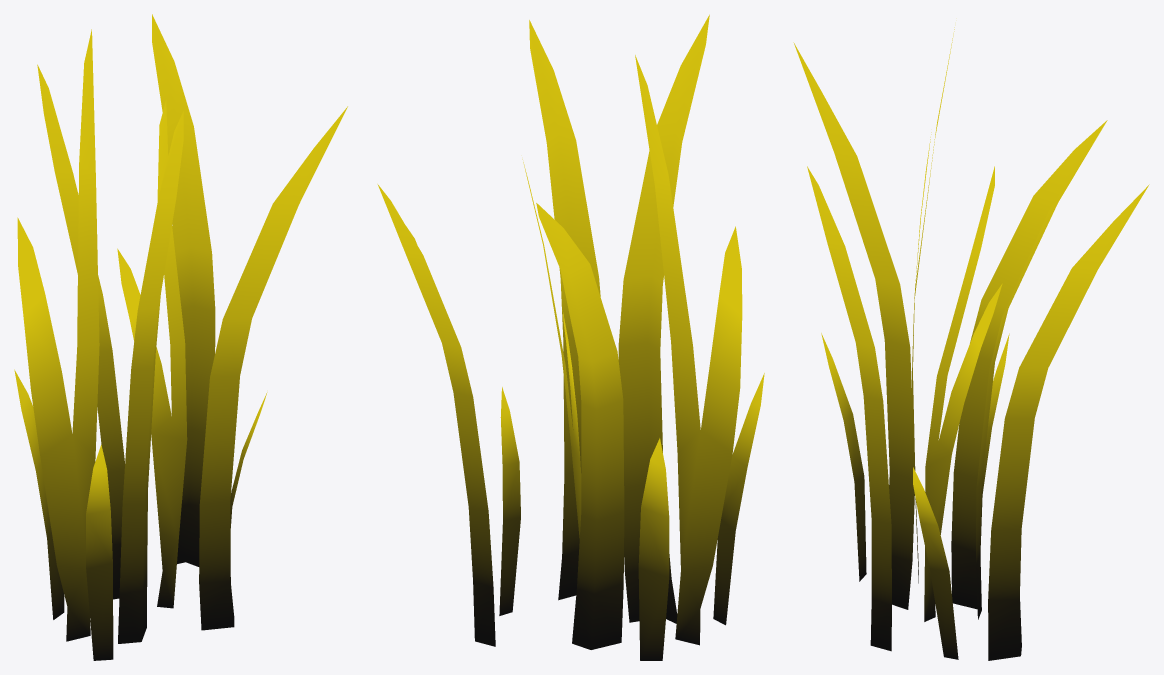
Rendered from Grass_Common_Short.glb.
The picture shows the model from 3 angles, left to right: view 1: azimuth 30°, elevation 25°; view 2: azimuth 150°, elevation 25°; view 3: azimuth 270°, elevation 25°; orthographic projection. The views are drawn at different scales.
Parts seen in each view (by area): view 1: Grass_Common_Short; view 2: Grass_Common_Short; view 3: Grass_Common_Short.
Part boxes in pixels (x1,y1,x2,y2): Grass_Common_Short: [14, 14, 347, 660]; Grass_Common_Short: [377, 14, 764, 660]; Grass_Common_Short: [793, 27, 1149, 660].
Size of the model in its own units: 0.6389 by 1.33 by 0.7373.
1 material, 1 textured.
